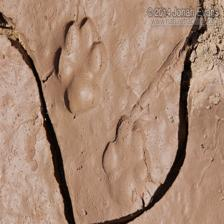fox: (46, 17, 109, 117)
